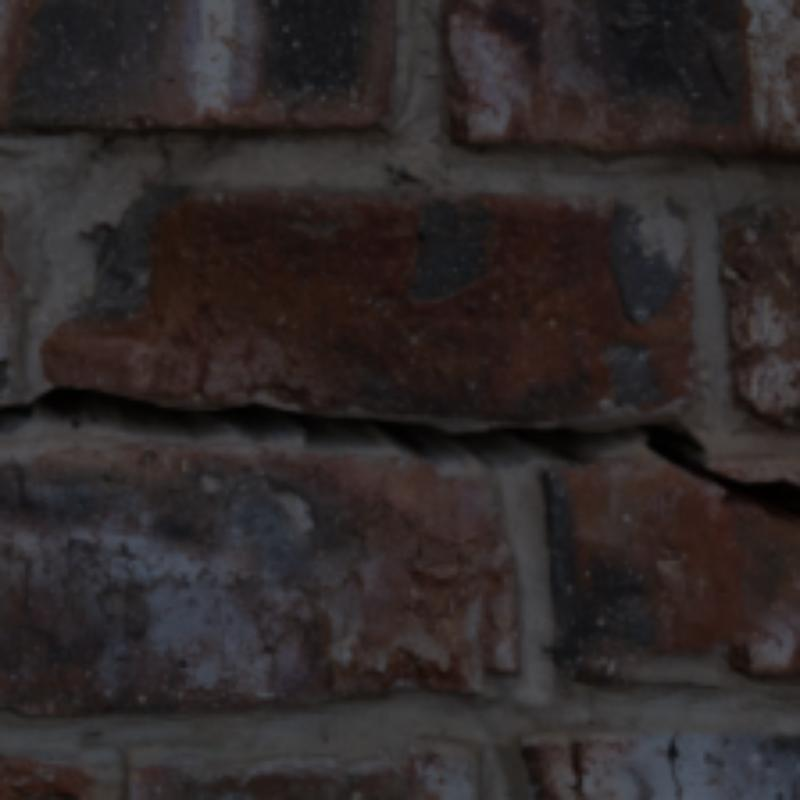pothole: (0, 382, 796, 529), (668, 732, 686, 796)
